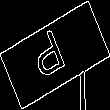P_SE: (33, 24, 77, 86)
